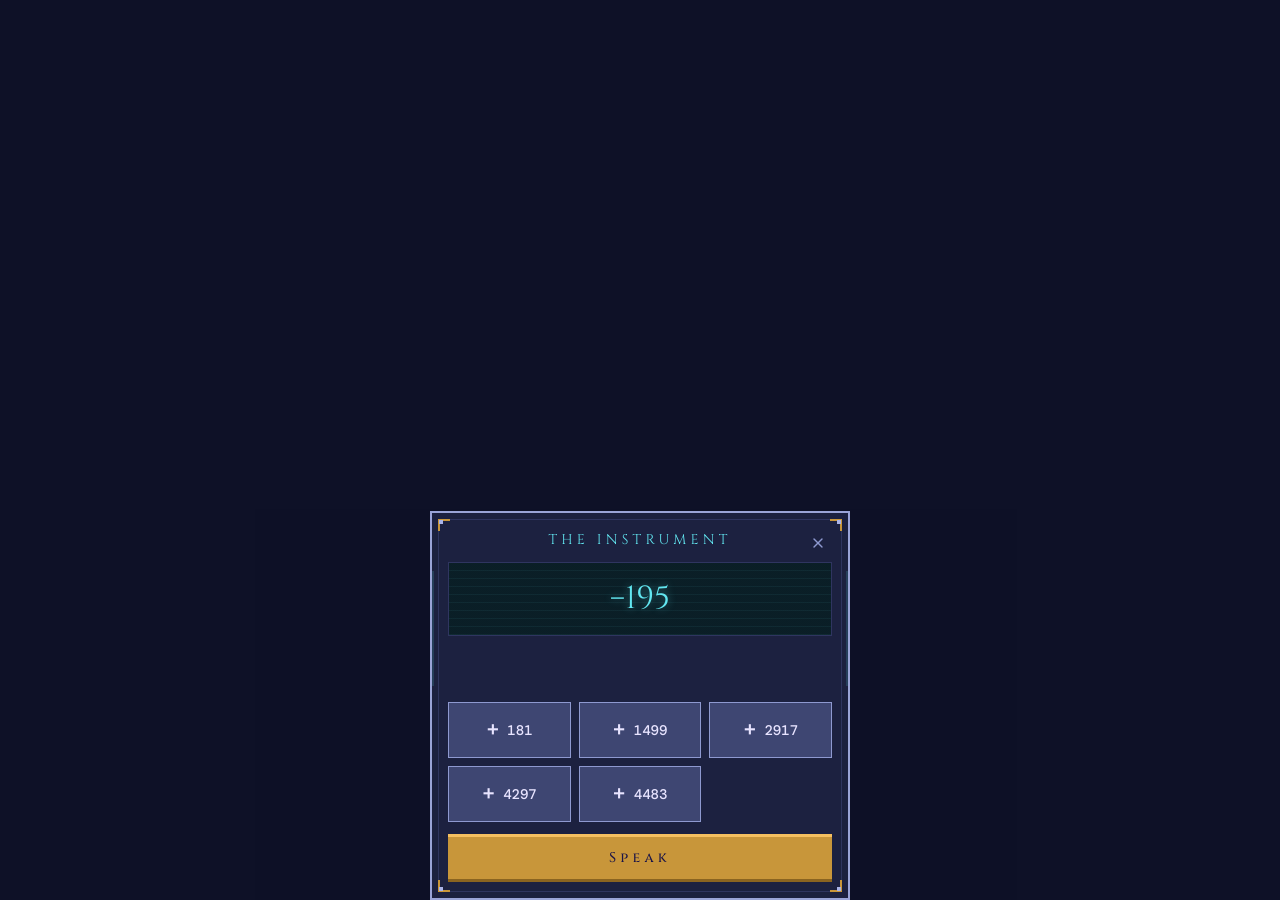
it: console Præm puzzle › handles submission reply no_key without awarding anything
What coordinates should you click on to do the following:
click the button "Speak"
I would click on:
 (640, 858)
Its box is [448,834,832,882].
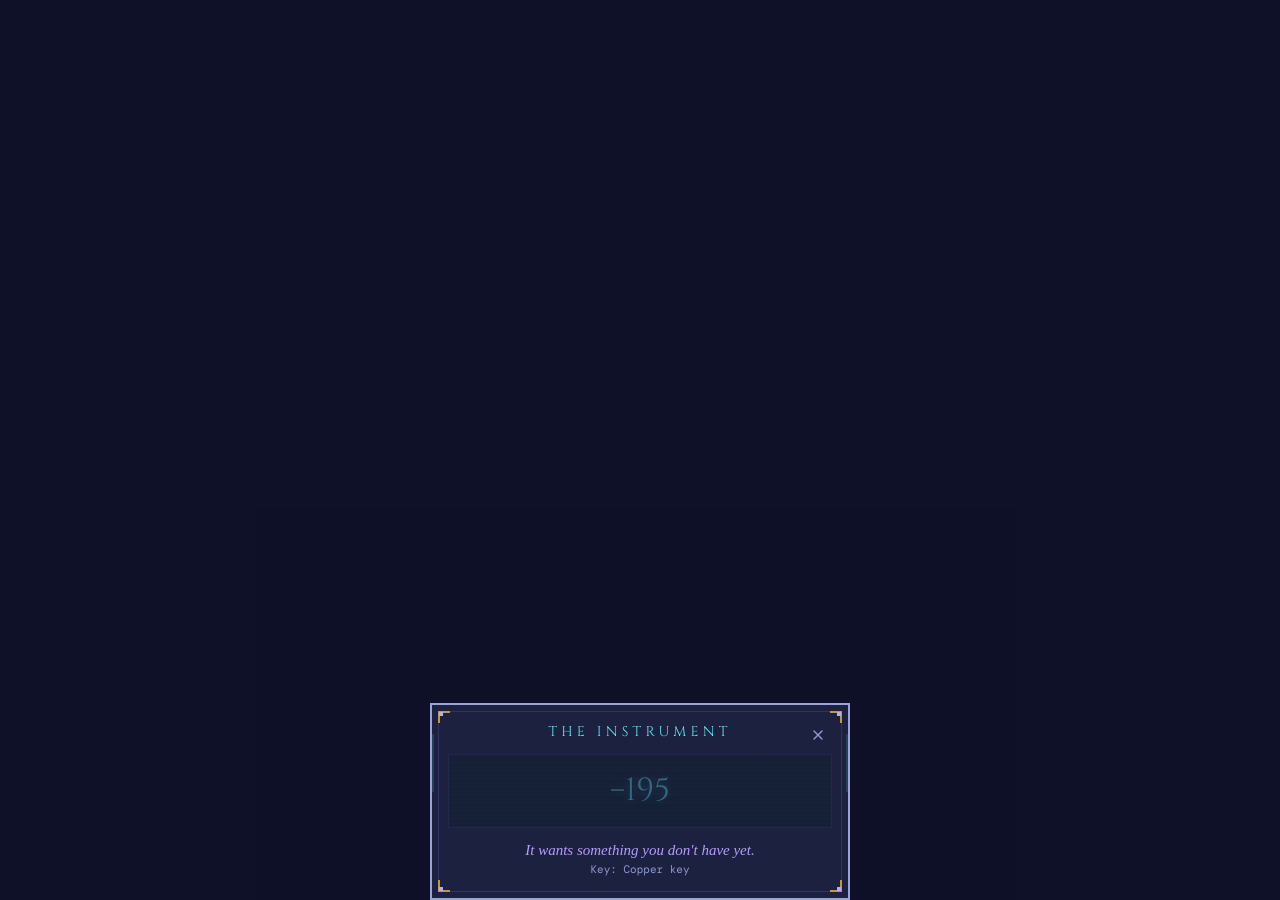
Result: the button "Speak" is gone
